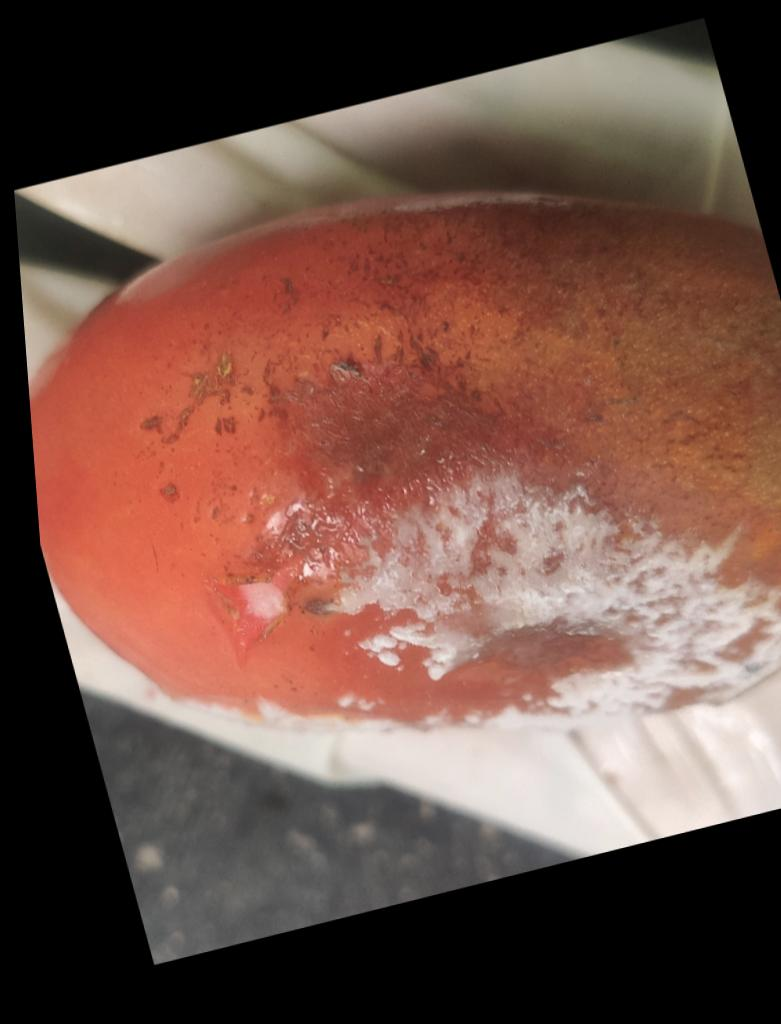rot_mold_decay: (169, 468, 781, 735), (259, 337, 484, 488), (237, 577, 284, 618)
surface_damage: (203, 566, 297, 670), (138, 353, 232, 443), (301, 601, 329, 613)
tomato: (29, 193, 781, 727)
